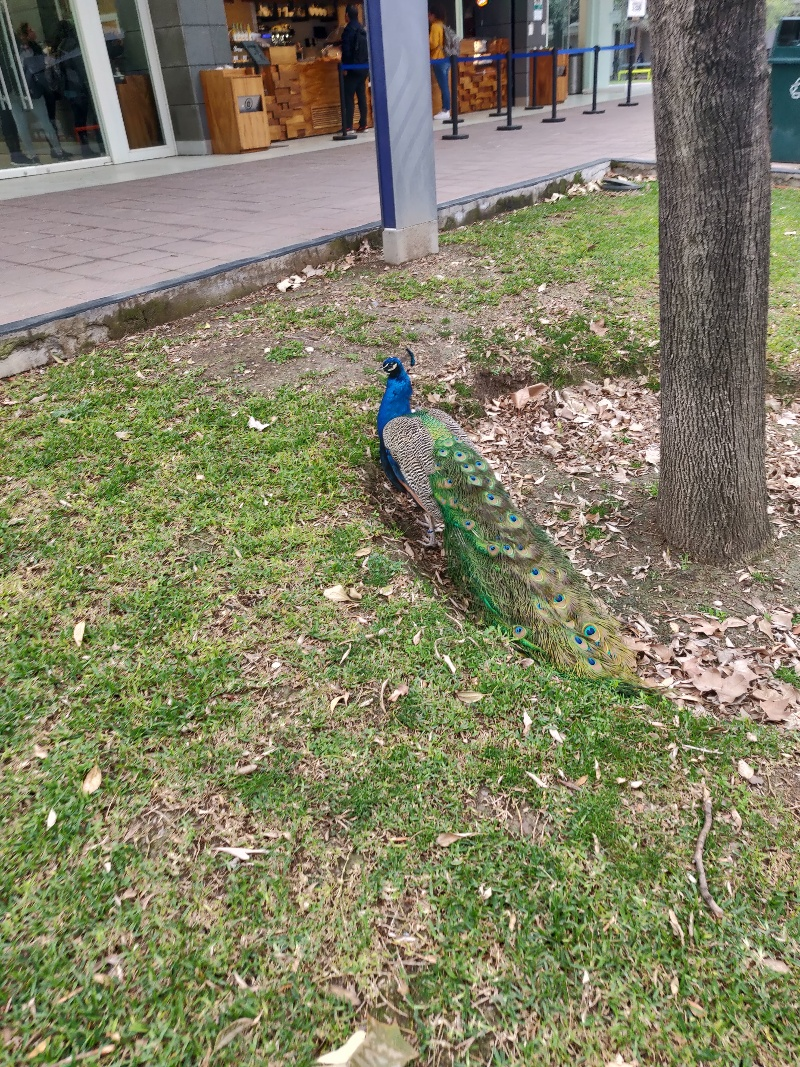pavoreal: (367, 354, 512, 583)
